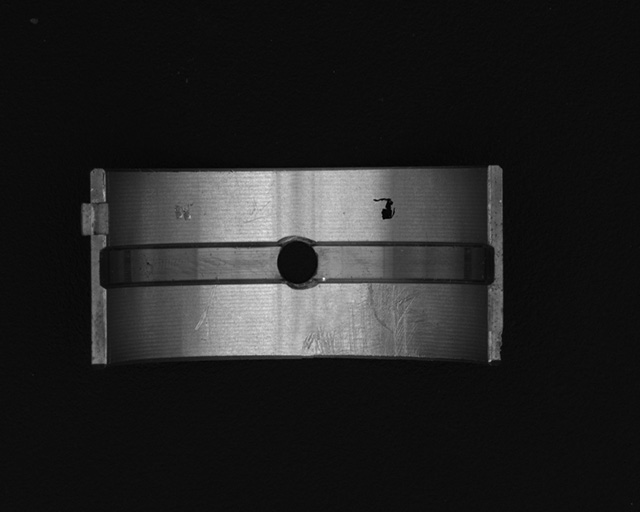blot: (374, 197, 396, 220)
bruise: (173, 204, 191, 220)
gap: (309, 242, 492, 285), (99, 244, 283, 286)
hole: (279, 236, 321, 291)
nick: (196, 286, 217, 331)
scratch: (305, 285, 425, 356)
